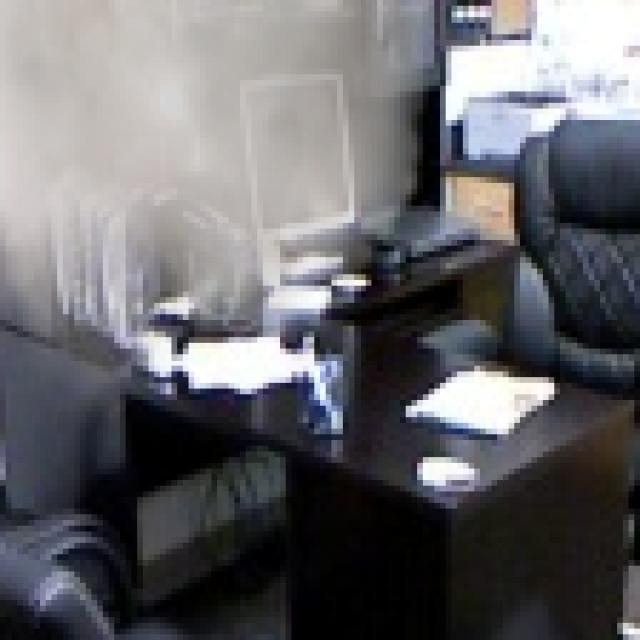smoke: (0, 0, 457, 434)
